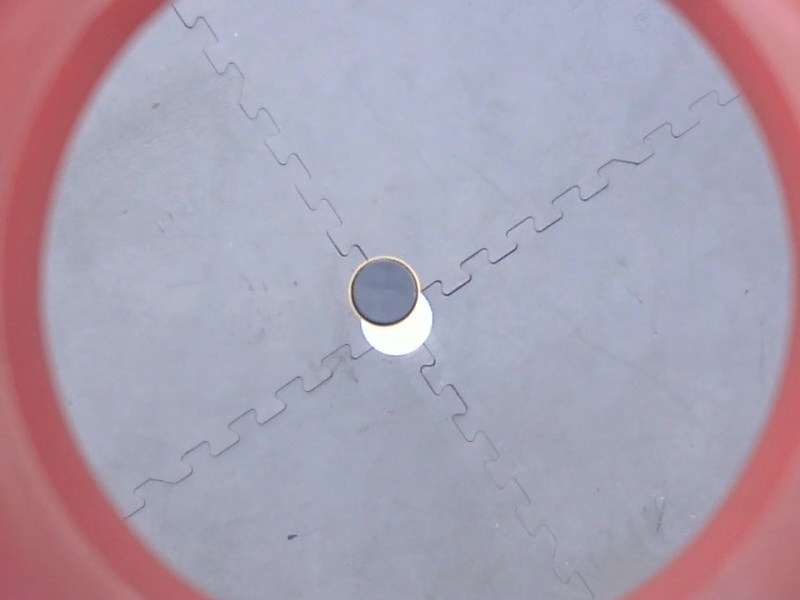tip: (345, 252, 425, 332)
